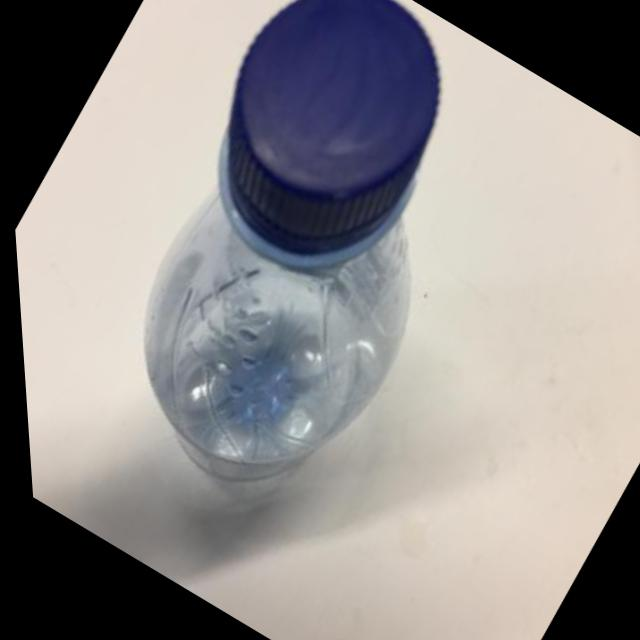plastic: (0, 0, 630, 623)
